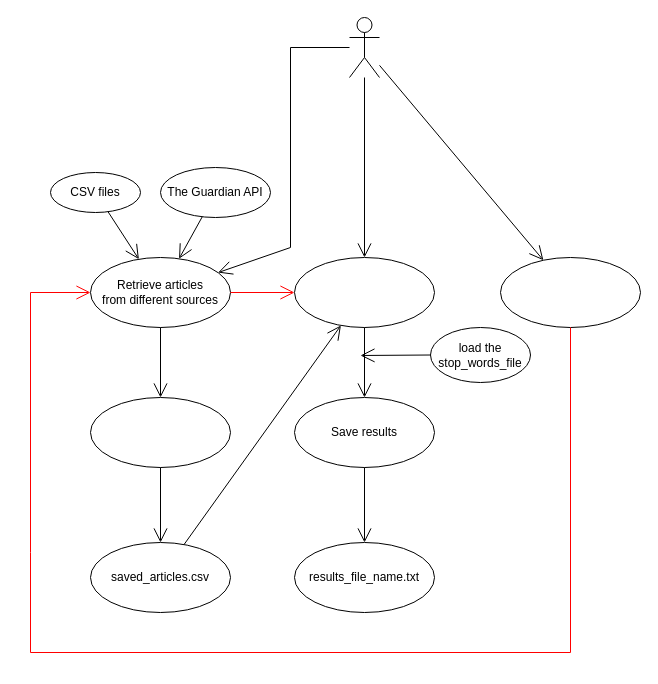
Some shapes in this 658 by 684 pixel diagram are drawn without their labels. The shapes that lost their labels are listed below. From the top down, each one's centre as x and y in pixels, then its label:
At (x=364, y=47): "User".
At (x=364, y=292): "Extract tokens from saved_articles.csv".
At (x=570, y=292): "Retrieve articles and extract tokens".
At (x=160, y=432): "Save articles".
